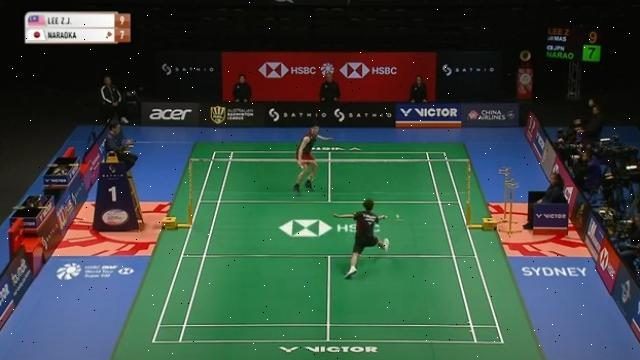Shuttlecock: (394, 210, 404, 222)
